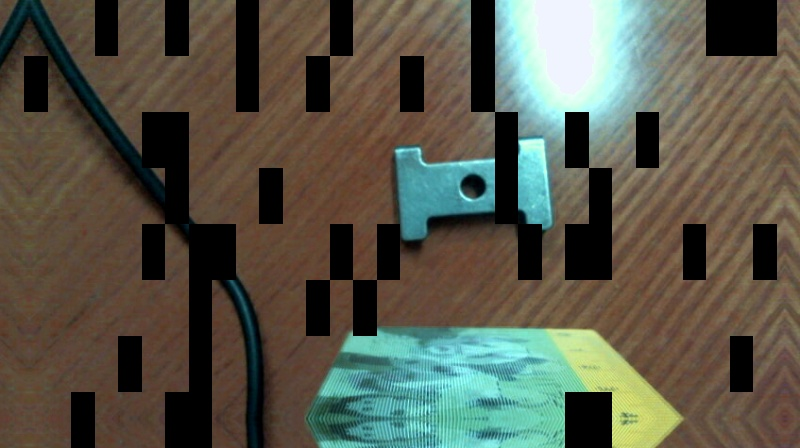O002: (388, 136, 557, 243)
